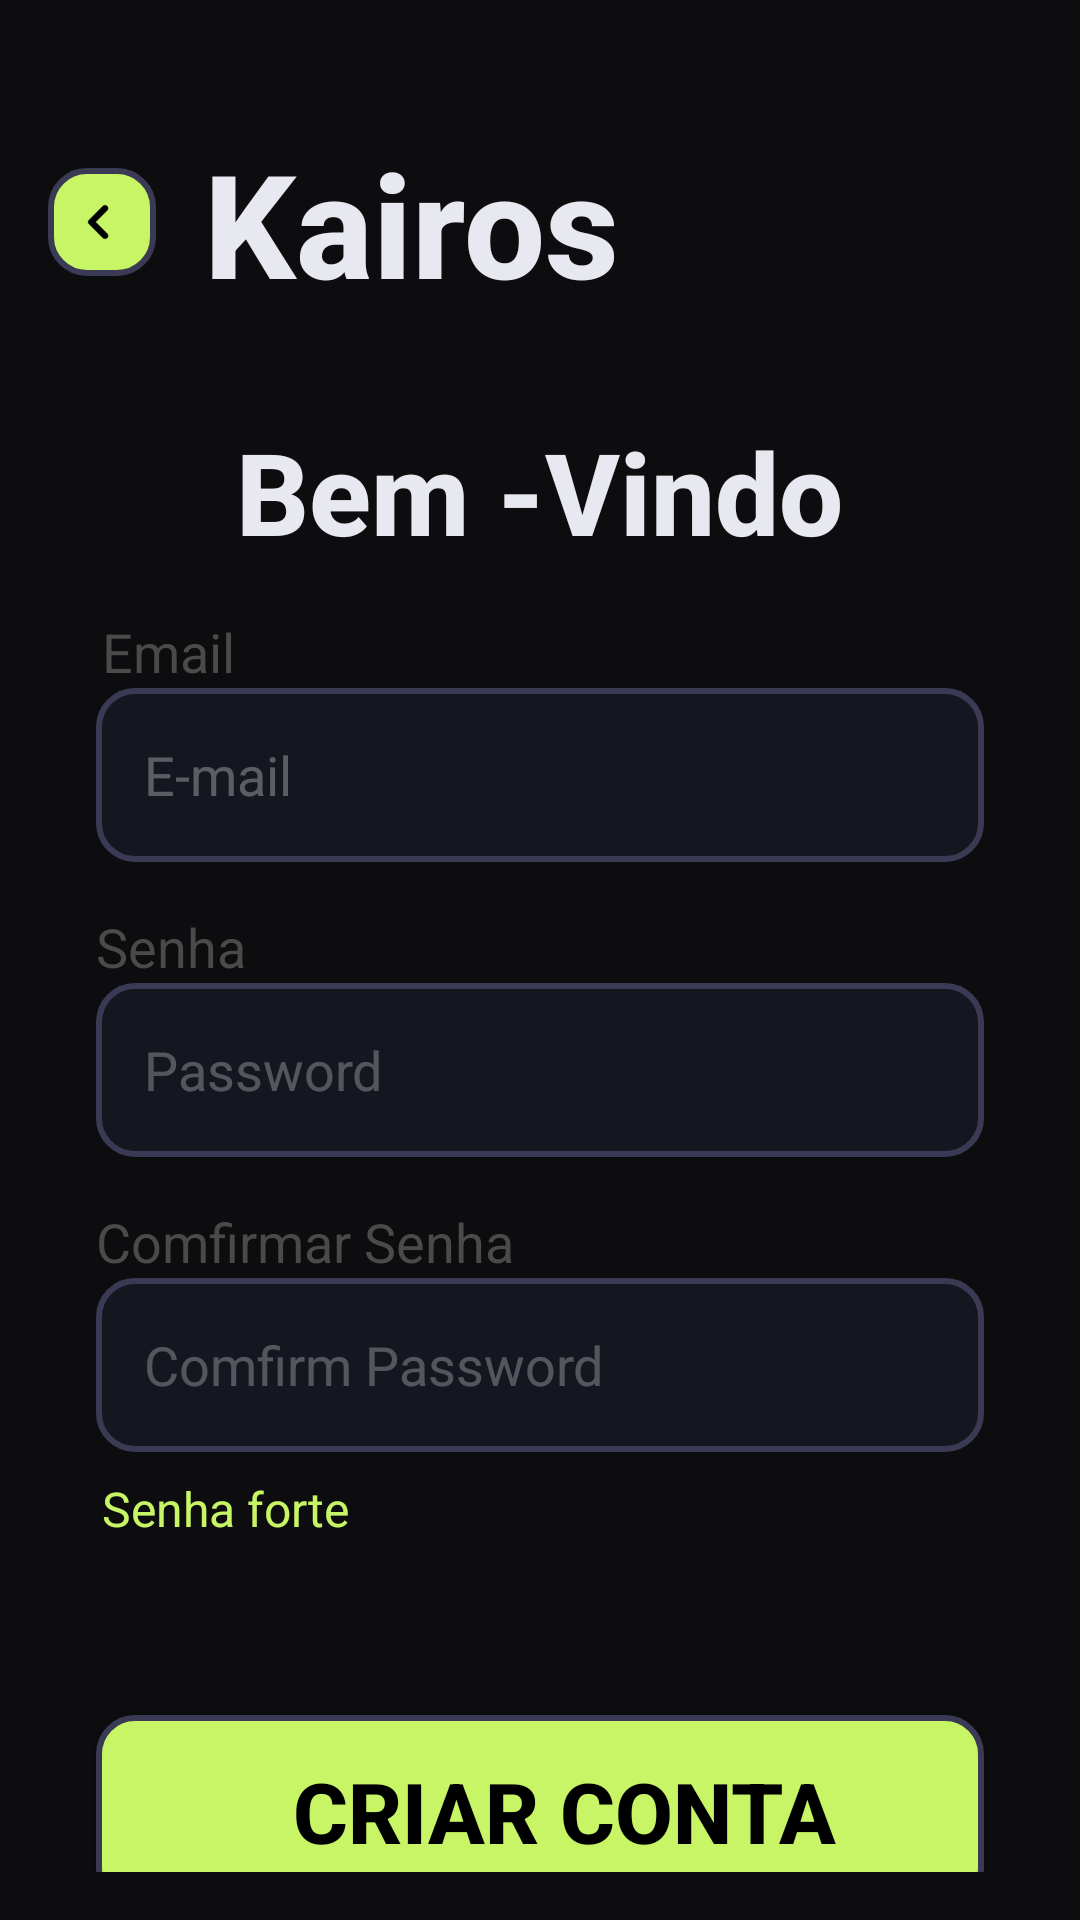

Named icons in this screenshot (1080×1920) and their bounding boxes, bbox=(x1, y1, x2, y2):
voltar: bbox=(48, 168, 156, 276)
